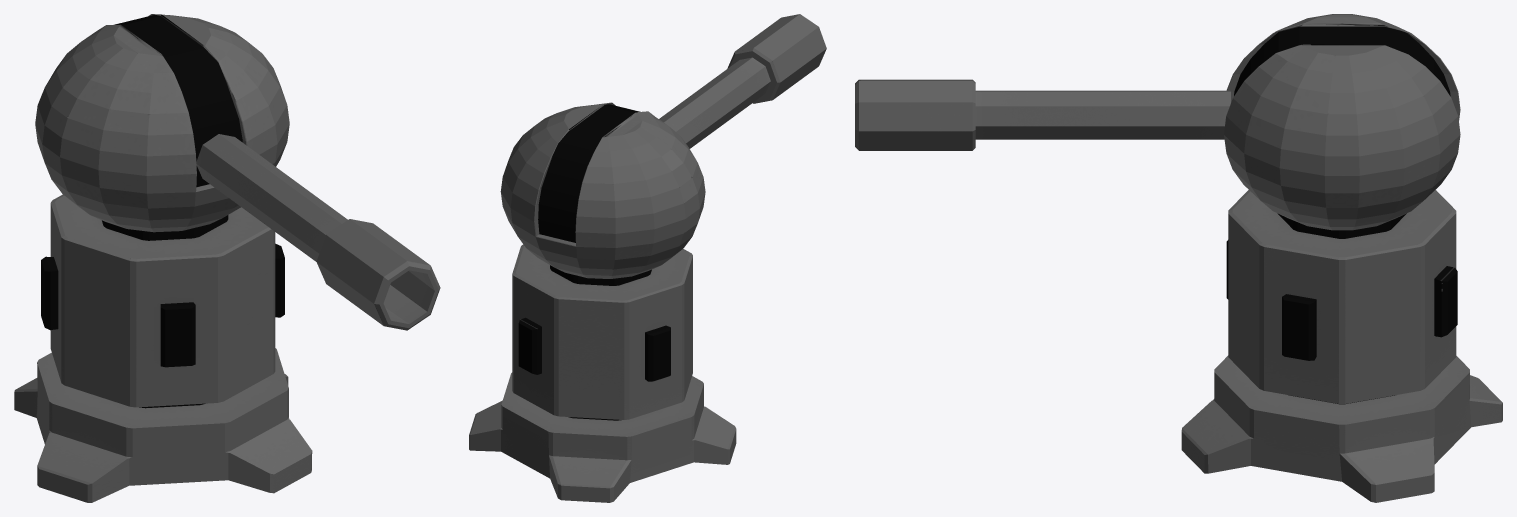
Rendered from turret.fbx.
The picture shows the model from 3 angles, left to right: view 1: azimuth 30°, elevation 25°; view 2: azimuth 150°, elevation 25°; view 3: azimuth 270°, elevation 25°; orthographic projection. The views are drawn at different scales.
Parts seen in each view (by area): view 1: Cylinder.002, Sphere.001, Cylinder.003; view 2: Cylinder.002, Sphere.001, Cylinder.003; view 3: Cylinder.002, Sphere.001, Cylinder.003.
Boxes of the visible parts, box(x1,y1,x2,y2) form: Cylinder.002: box(14, 194, 312, 502); Sphere.001: box(35, 14, 289, 232); Cylinder.003: box(196, 134, 440, 330); Cylinder.002: box(469, 244, 736, 502); Sphere.001: box(500, 102, 705, 278); Cylinder.003: box(659, 14, 826, 148); Cylinder.002: box(1181, 189, 1502, 502); Sphere.001: box(1224, 14, 1460, 230); Cylinder.003: box(855, 79, 1230, 150).
Bounding box in the file's own units: 249 × 343 × 502.
